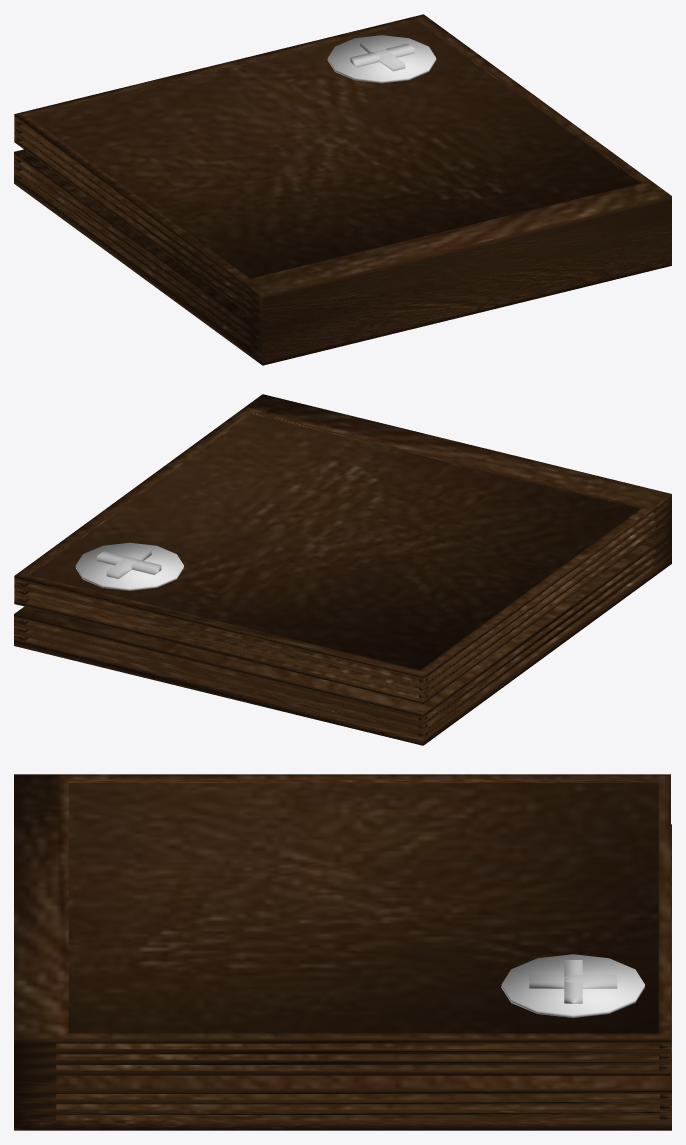
Rendered from Wallet.fbx.
3 renders of one model, top to bottom at view 1: azimuth 30°, elevation 25°; view 2: azimuth 150°, elevation 25°; view 3: azimuth 270°, elevation 25°, orthographic. The views are drawn at different scales.
Visible parts, largest first — view 1: Wallet, WalletDetail, walletInside, WalletDetail_001; view 2: Wallet, WalletDetail, walletInside, WalletDetail_001; view 3: Wallet, WalletDetail, walletInside, WalletDetail_001.
Part boxes in pixels (x1,y1,x2,y2): Wallet: [14, 14, 671, 365]; WalletDetail: [327, 35, 436, 83]; walletInside: [16, 150, 246, 320]; WalletDetail_001: [350, 39, 414, 71]; Wallet: [14, 394, 671, 745]; WalletDetail: [75, 542, 183, 590]; walletInside: [16, 538, 655, 713]; WalletDetail_001: [97, 547, 161, 578]; Wallet: [14, 774, 671, 1130]; WalletDetail: [501, 954, 644, 1017]; walletInside: [56, 828, 671, 1088]; WalletDetail_001: [529, 960, 617, 1003].
Size of the model in its own units: 0.4593 by 0.0826 by 0.4833.
